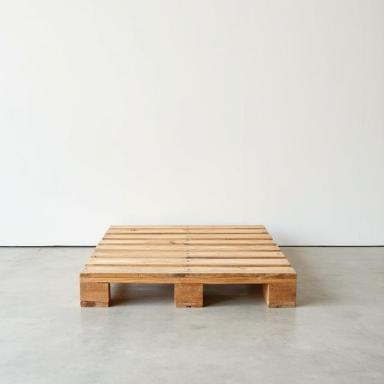pallet: (79, 225, 297, 308)
